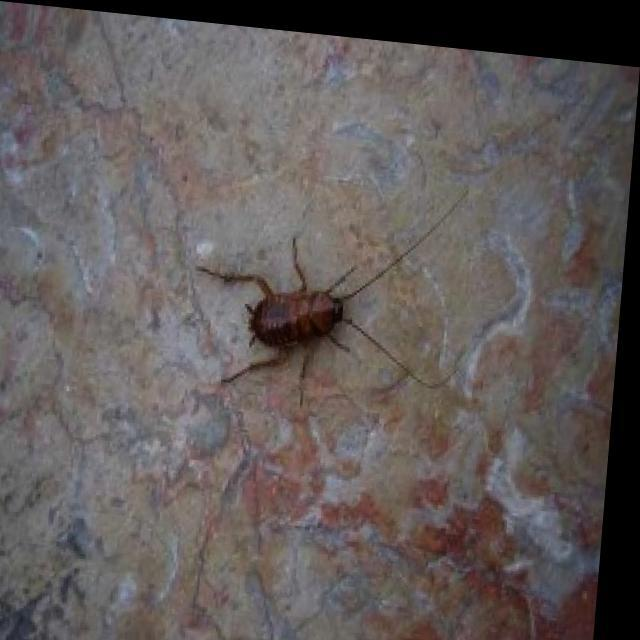cockroach: (191, 184, 476, 409)
